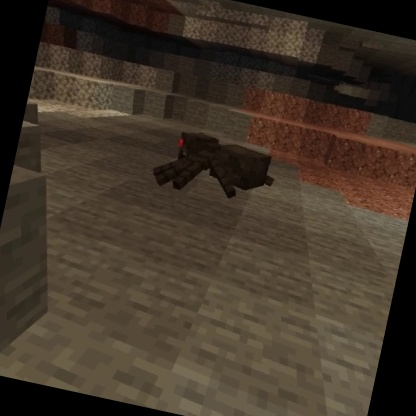spider: (146, 122, 283, 213)
